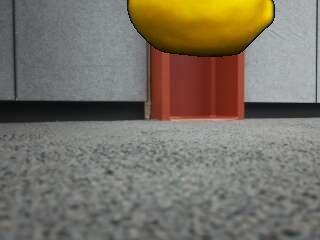lemon: (129, 0, 274, 55)
